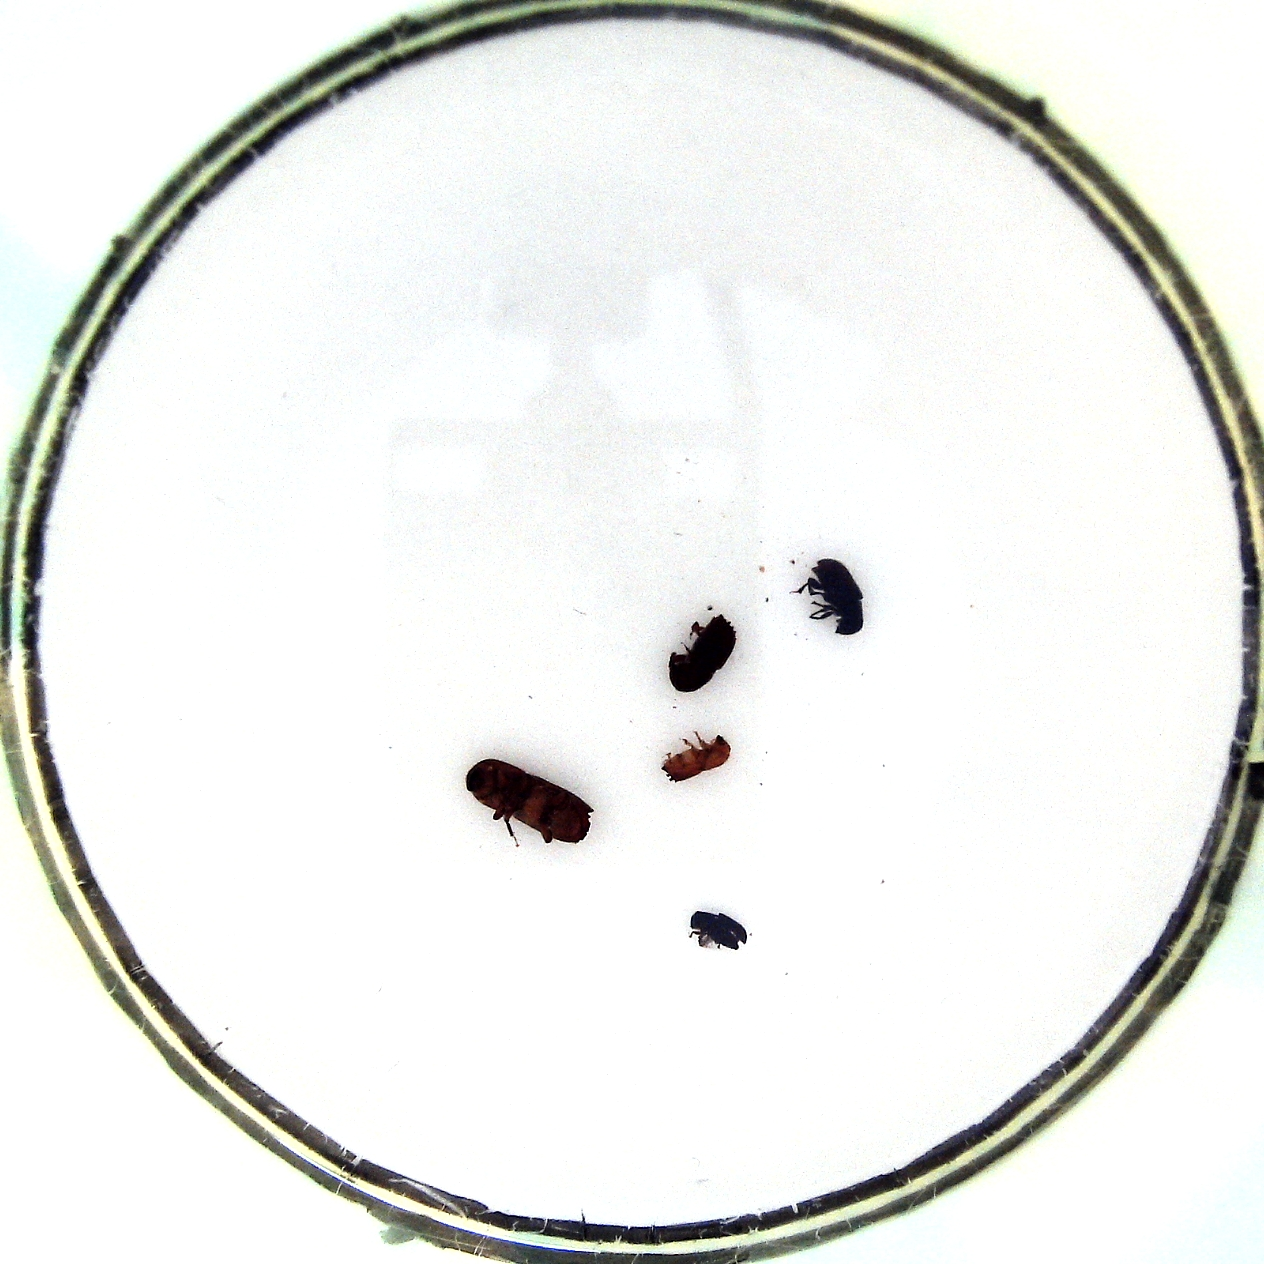Boerner: (464, 755, 598, 851)
Linnaeus: (663, 608, 743, 693)
acuminatus: (657, 728, 732, 782)
armandi: (794, 554, 869, 639)
coleoptera: (681, 907, 748, 957)
